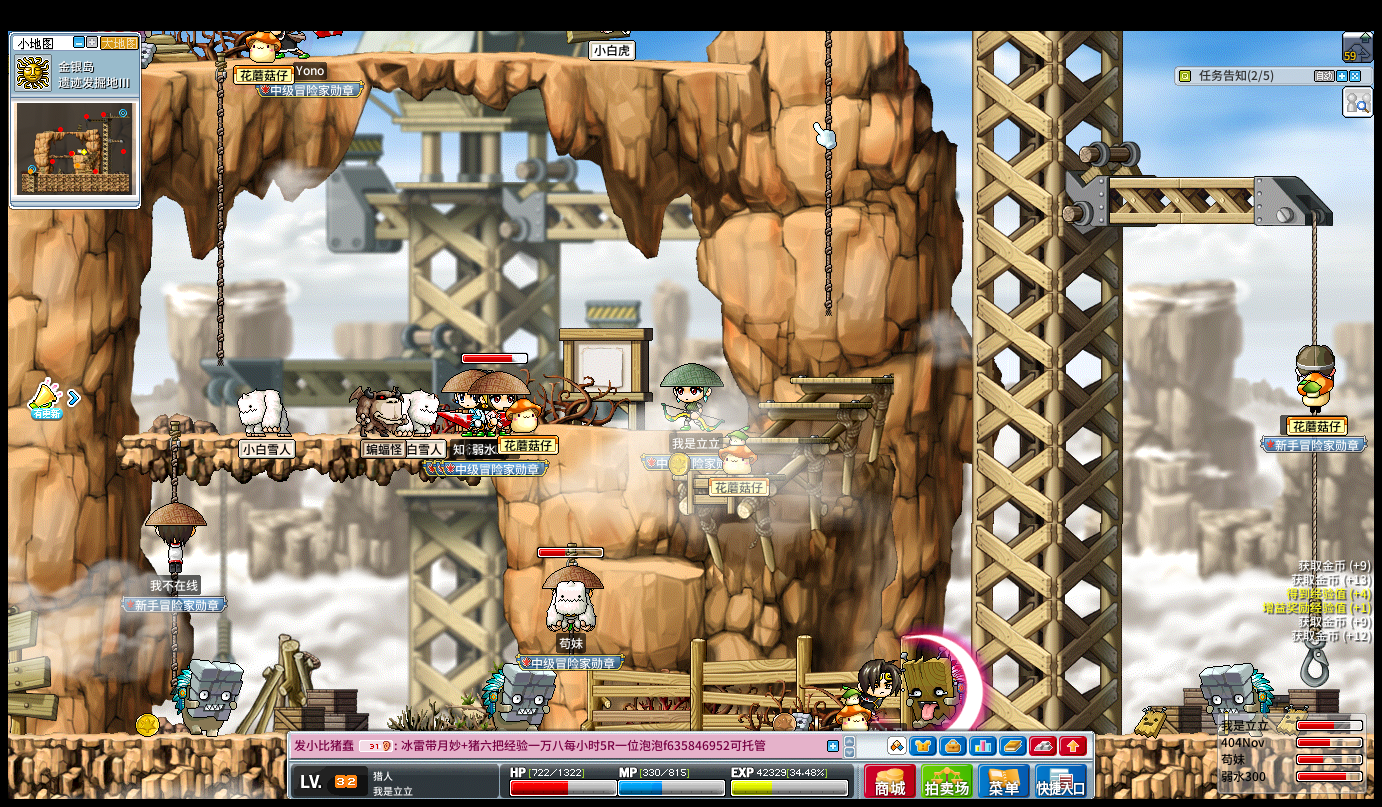floor: (153, 47, 755, 72), (114, 429, 519, 442), (1107, 172, 1302, 189), (602, 558, 706, 578), (755, 400, 866, 412), (741, 435, 828, 447), (788, 376, 894, 384)
monster: (173, 659, 243, 736), (1199, 662, 1272, 735)
rope: (820, 30, 837, 318), (215, 51, 223, 367), (1308, 222, 1321, 343), (167, 420, 181, 502), (1309, 454, 1321, 545), (214, 294, 223, 359)
